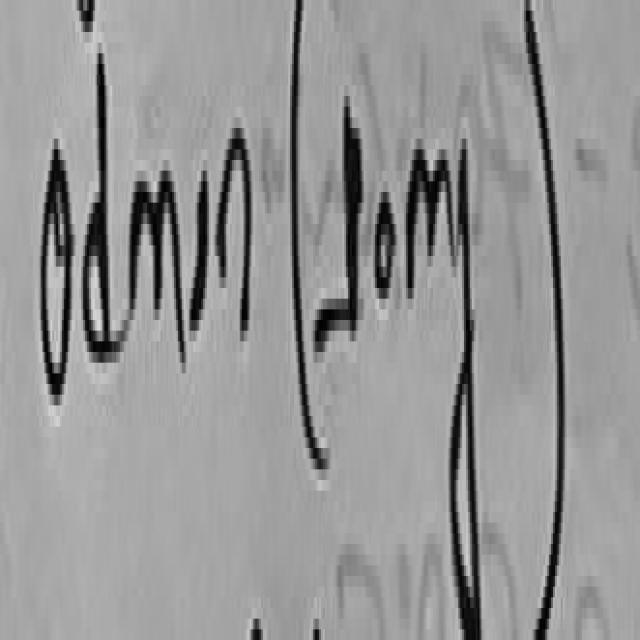0: (377, 192, 396, 293)
1: (336, 98, 358, 325)
O: (41, 149, 73, 395)
d: (83, 53, 126, 367)
g: (451, 139, 481, 640)
i: (189, 171, 209, 325)
m: (408, 149, 455, 293)
n: (130, 163, 186, 376), (217, 128, 254, 336)
